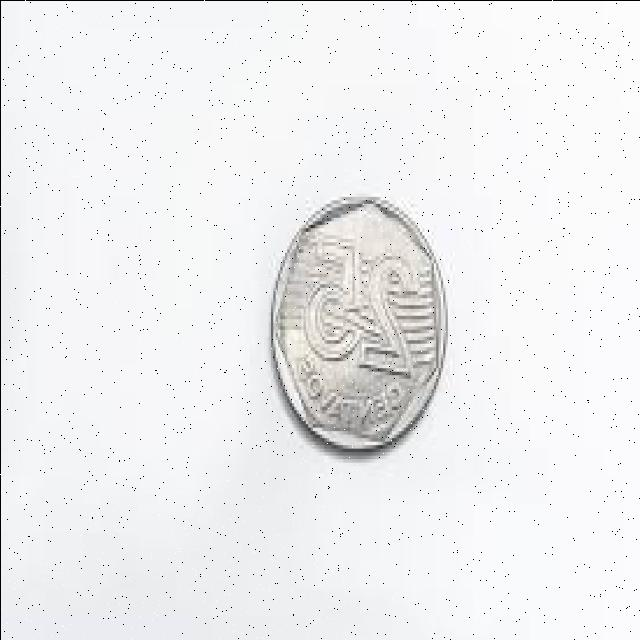25 cent: (270, 187, 448, 443)
